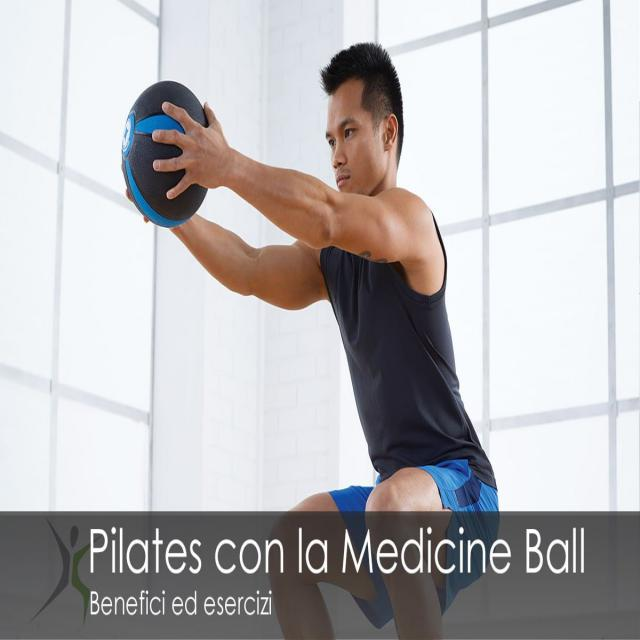Ball: (111, 70, 216, 238)
